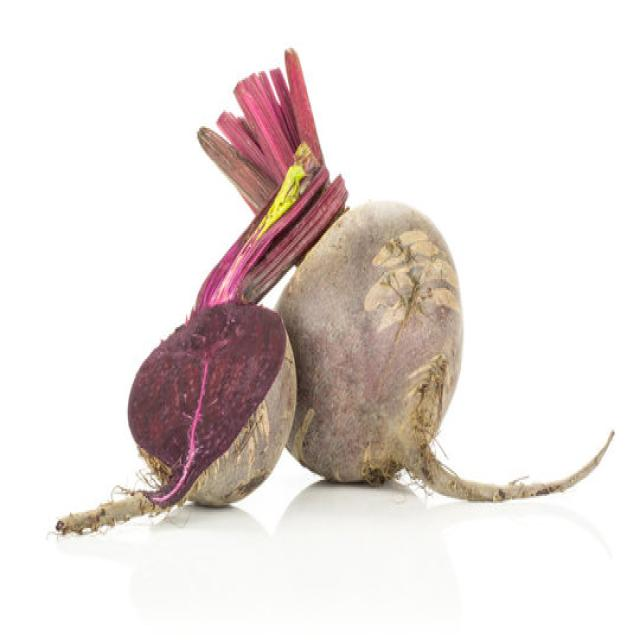Beetroot: (194, 72, 596, 503), (52, 299, 298, 537)
